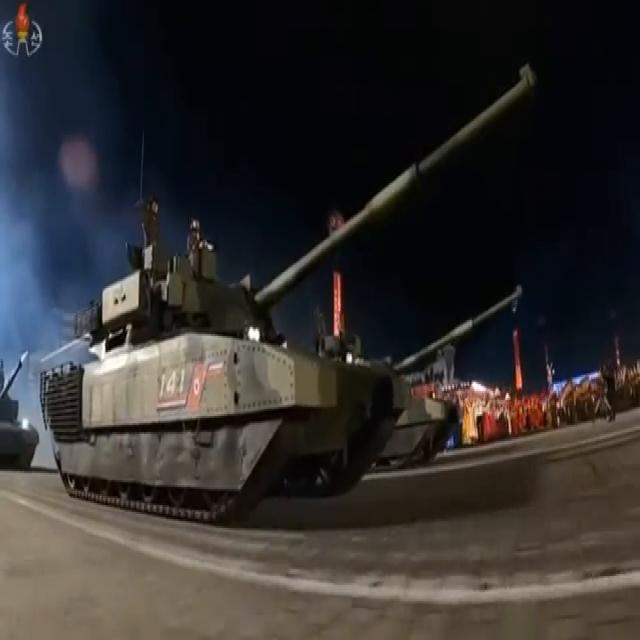north tank: (41, 63, 565, 521), (321, 295, 546, 479), (0, 320, 46, 498)
